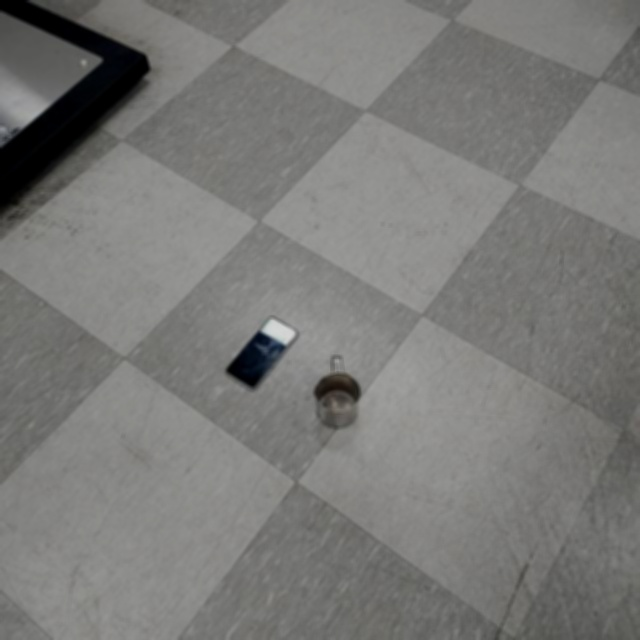cup: (312, 356, 364, 426)
phone: (225, 315, 298, 390)
